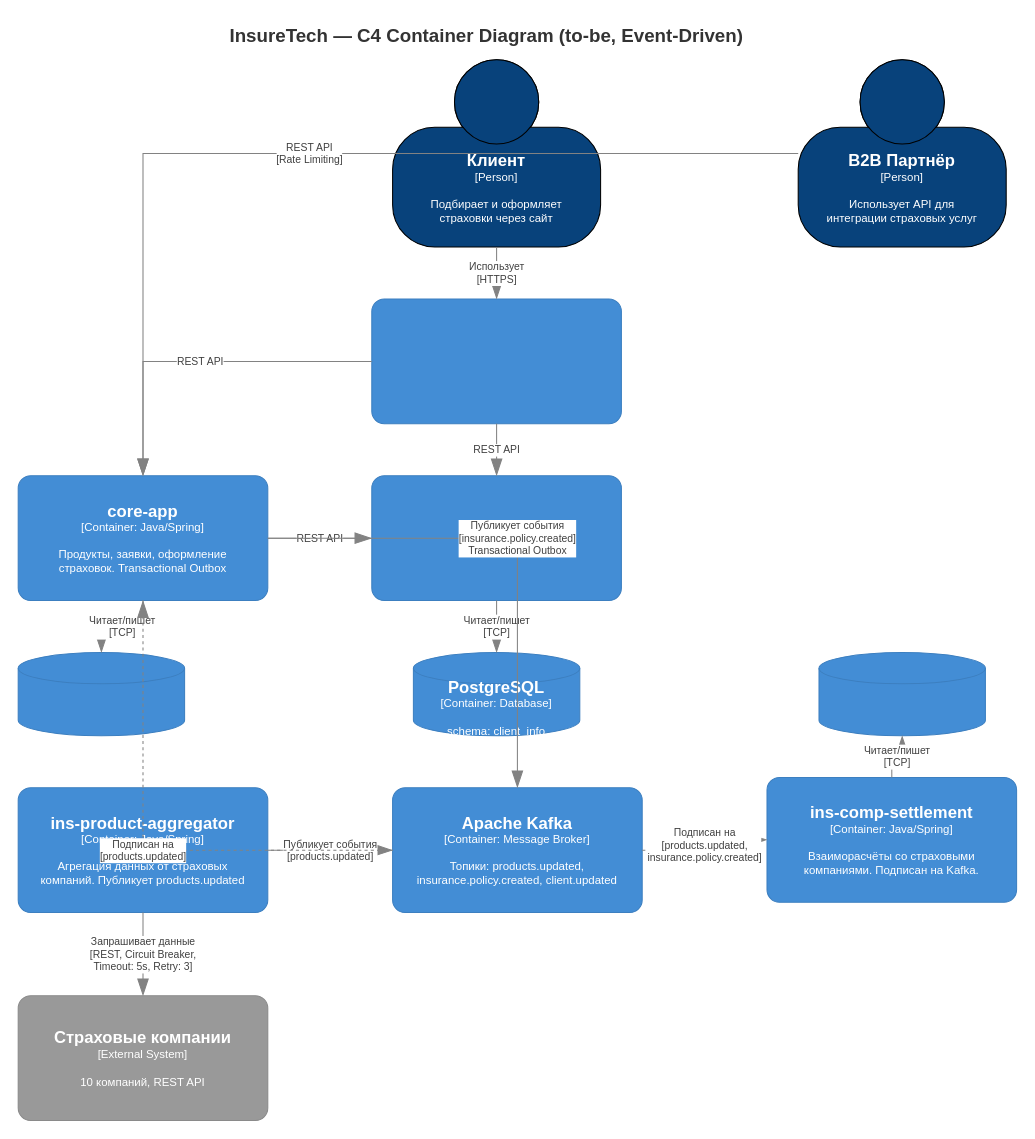
Image size: 1035x1139. Some labels were removed from this diagram. Here are the shapes that lost their labels. From the top down, the centre of each, then its label:
At (x=496, y=361): "Web Application [Container: SPA, JavaScript] Фронтенд приложения".
At (x=496, y=538): "client-info [Container: Java/Spring] Управление клиентскими данными".
At (x=101, y=694): "PostgreSQL [Container: Database] schema: core_app + outbox".
At (x=901, y=694): "PostgreSQL [Container: Database] schema: settlement".
